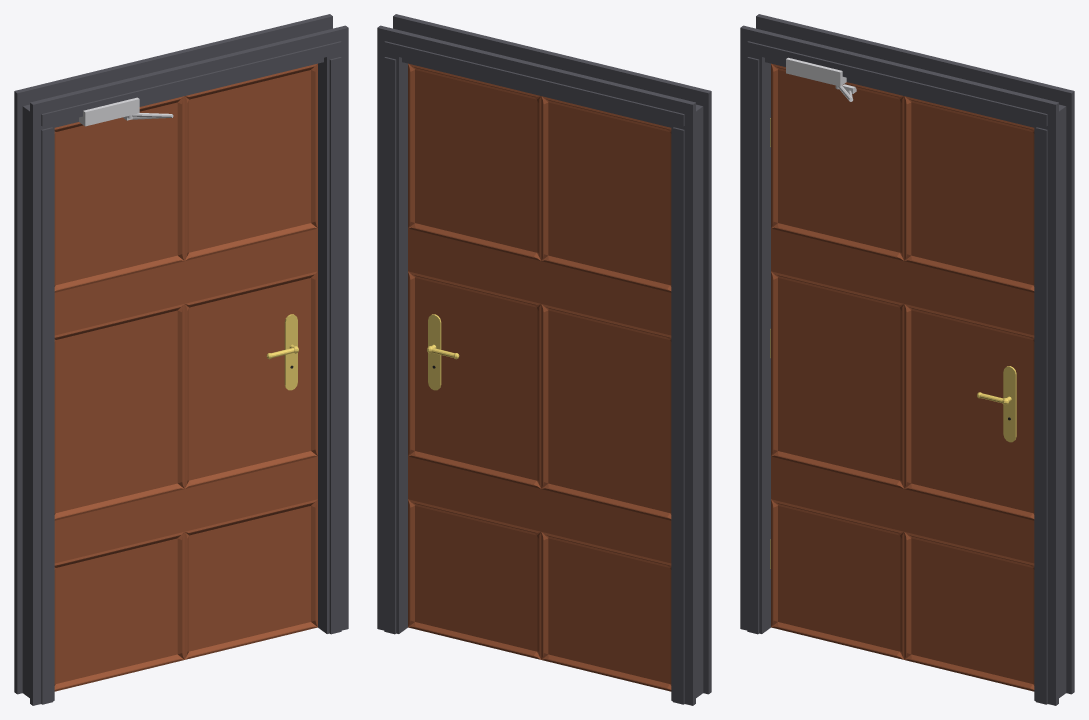
The model's file is doorfancy.glb.
3 views of the same model, side by side, from view 1: azimuth 30°, elevation 25°; view 2: azimuth 150°, elevation 25°; view 3: azimuth 330°, elevation 25° (orthographic).
Visible parts, largest first — view 1: Fancy_Door_Panel, Fancy_Door_Frame; view 2: Fancy_Door_Panel, Fancy_Door_Frame; view 3: Fancy_Door_Panel, Fancy_Door_Frame.
Boxes of the visible parts, bbox=[...] form: Fancy_Door_Panel: bbox=[54, 63, 317, 691]; Fancy_Door_Frame: bbox=[14, 14, 348, 705]; Fancy_Door_Panel: bbox=[408, 63, 671, 691]; Fancy_Door_Frame: bbox=[377, 14, 711, 705]; Fancy_Door_Panel: bbox=[770, 63, 1034, 691]; Fancy_Door_Frame: bbox=[740, 14, 1074, 705].
Size of the model in its own units: 1.16 by 2.11 by 0.2221.
